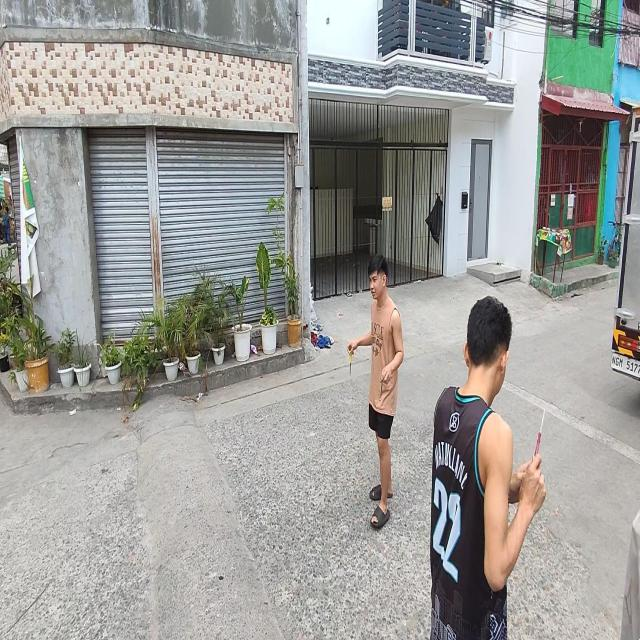scissor: (534, 407, 546, 457), (349, 351, 354, 376)
